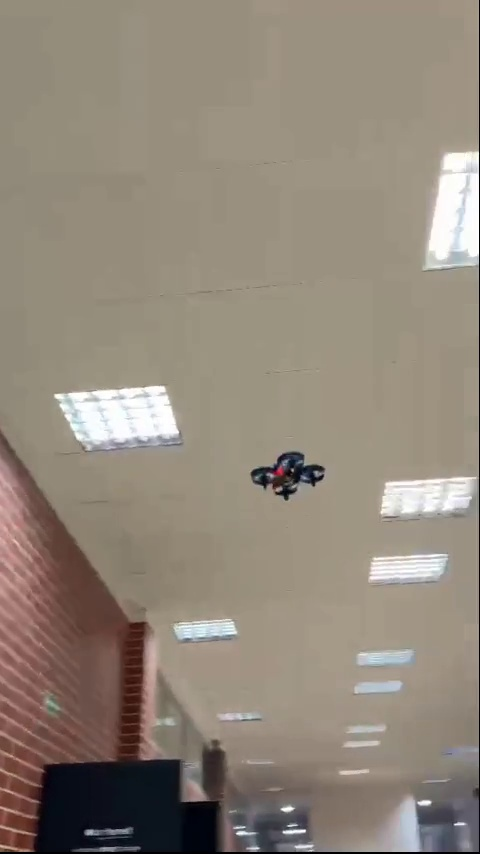drone: (253, 452, 324, 500)
